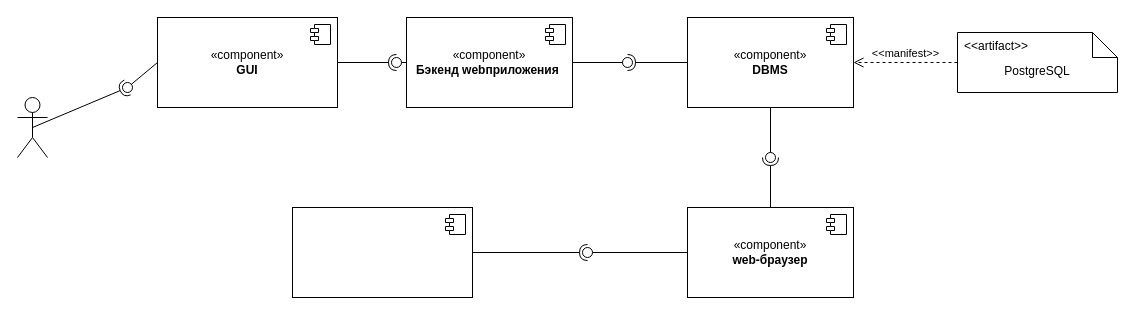
Some shapes in this 1135 by 315 pixel diagram are drawn without their labels. The centre of each missing label's shape, as x and y in pixels:
"«component» SMTP" belongs at (x=382, y=252).
"Гость" belongs at (x=32, y=127).
